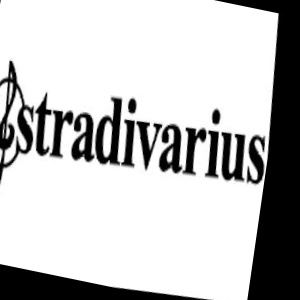stradivarius: (268, 54, 282, 134)
